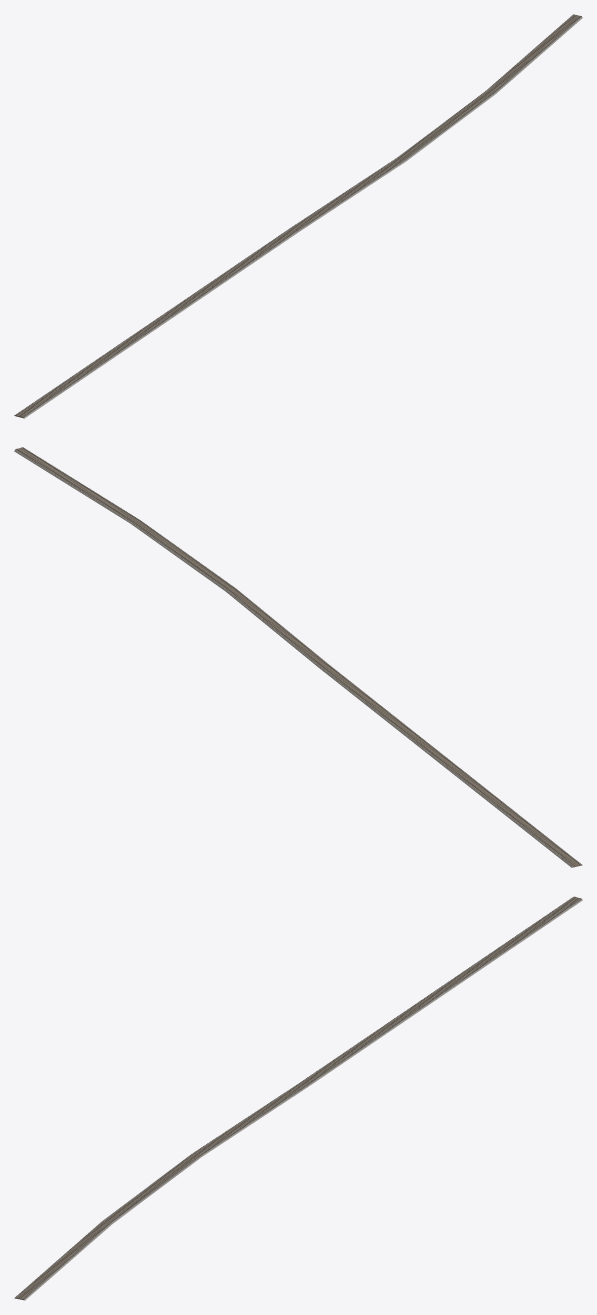
File: rail_01207.glb
3 views of the same model, one above another, from view 1: azimuth 90°, elevation 25°; view 2: azimuth 150°, elevation 25°; view 3: azimuth 270°, elevation 25° (orthographic). The views are drawn at different scales.
Parts seen in each view (by area): view 1: Sleepers, Ballast, Rails; view 2: Sleepers, Ballast, Rails; view 3: Sleepers, Ballast, Rails.
Boxes of the visible parts, x1,y1,x2,y2 form: Sleepers: [15, 14, 581, 417]; Ballast: [14, 15, 582, 418]; Rails: [17, 14, 579, 416]; Sleepers: [15, 447, 581, 866]; Ballast: [14, 448, 582, 867]; Rails: [17, 447, 580, 865]; Sleepers: [15, 896, 581, 1299]; Ballast: [14, 897, 582, 1300]; Rails: [16, 896, 580, 1298].
Size of the model in its own units: 230 by 0.48 by 137.
